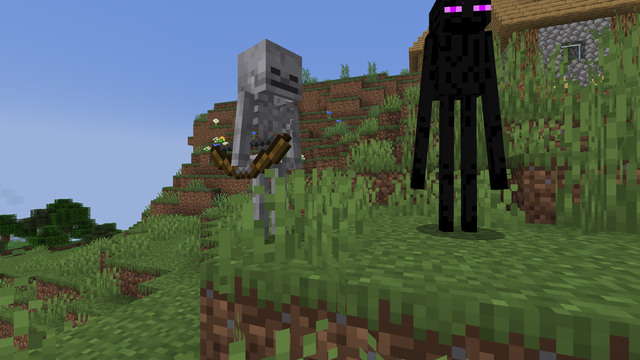endermens: (429, 0, 493, 238)
squelettes: (230, 37, 305, 243)
